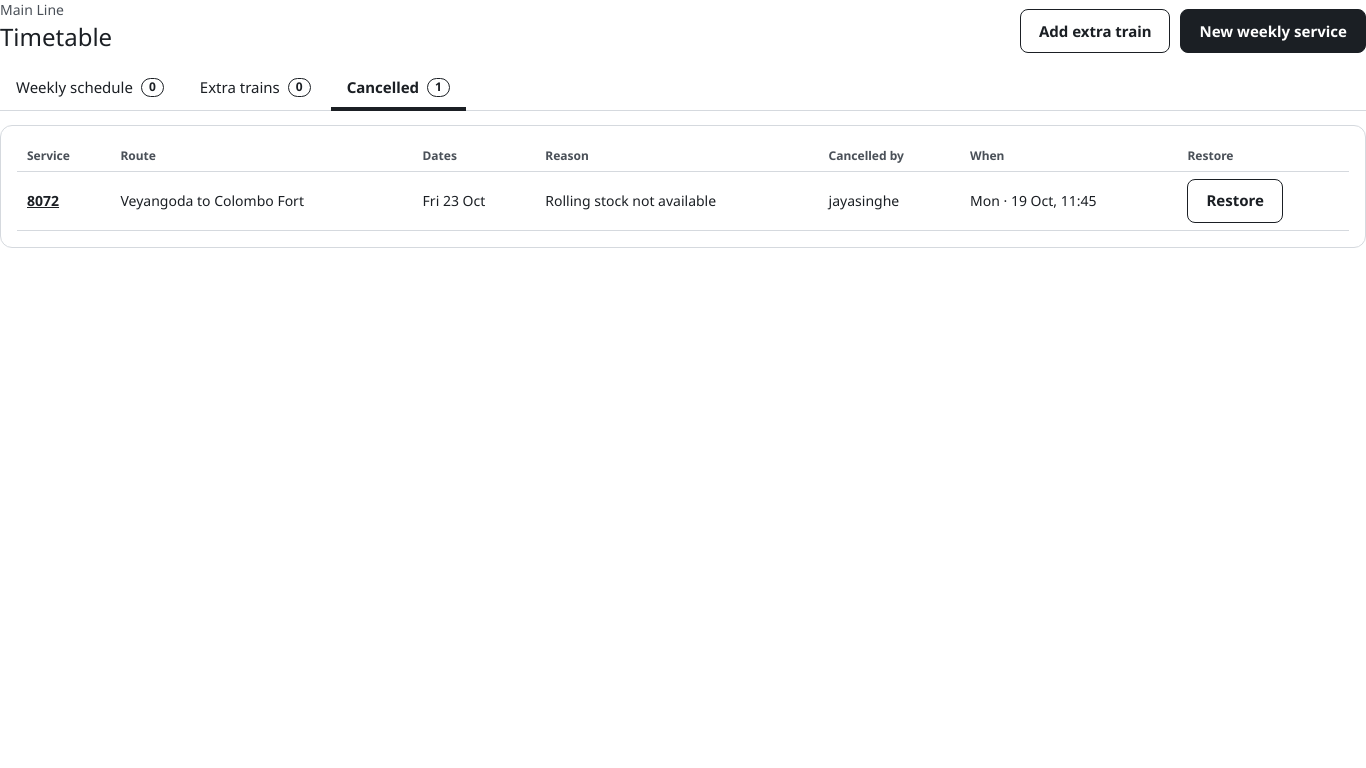
it: Timetable (spec 15, W1) › keeping it cancelled sends nothing, and a second restore is explained
The width and height of the screenshot is (1366, 768).
What coordinates should you click on to do the following:
click the button with aria-label "Restore service 8072"
I would click on:
 (1235, 201)
Its box is [1187,179,1283,223].
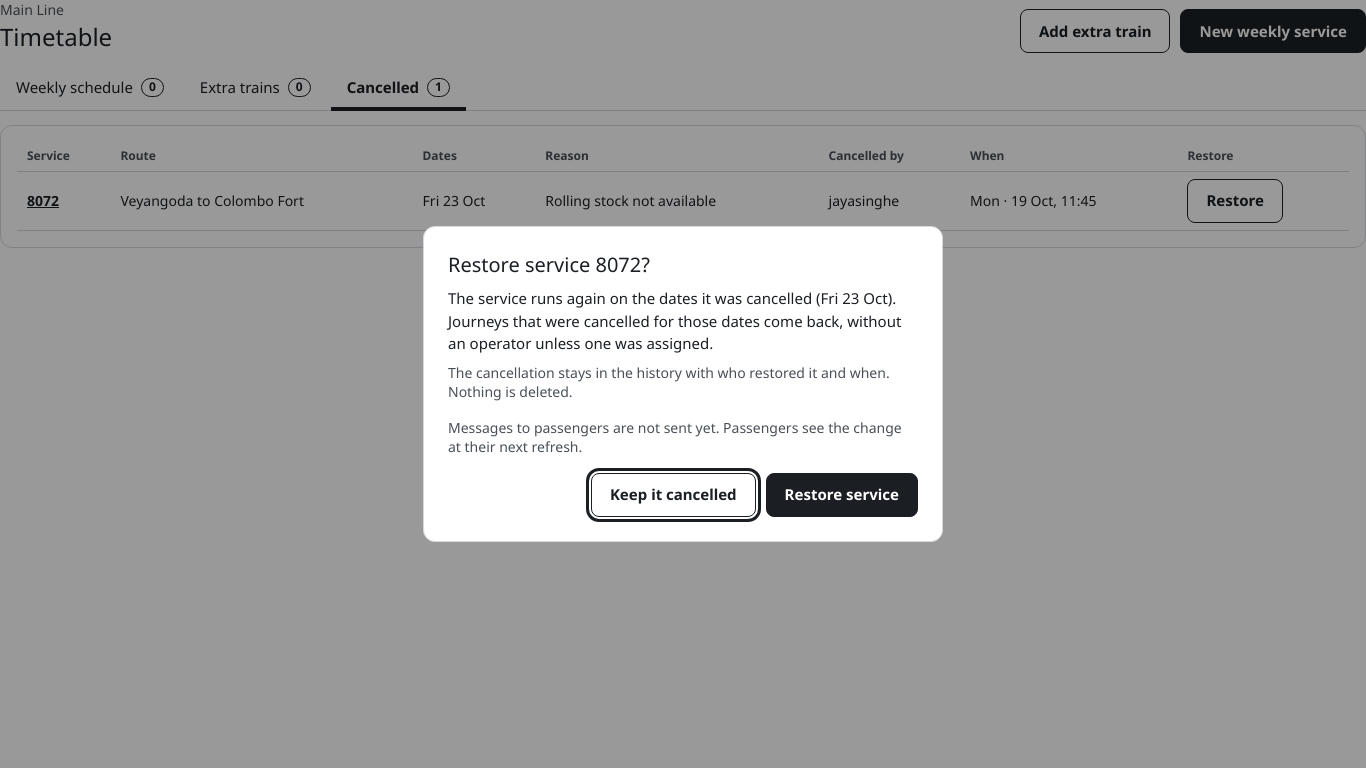
What coordinates should you click on to do the following:
click the button "Keep it cancelled"
I would click on:
 (673, 495)
Its box is [591,473,756,517].
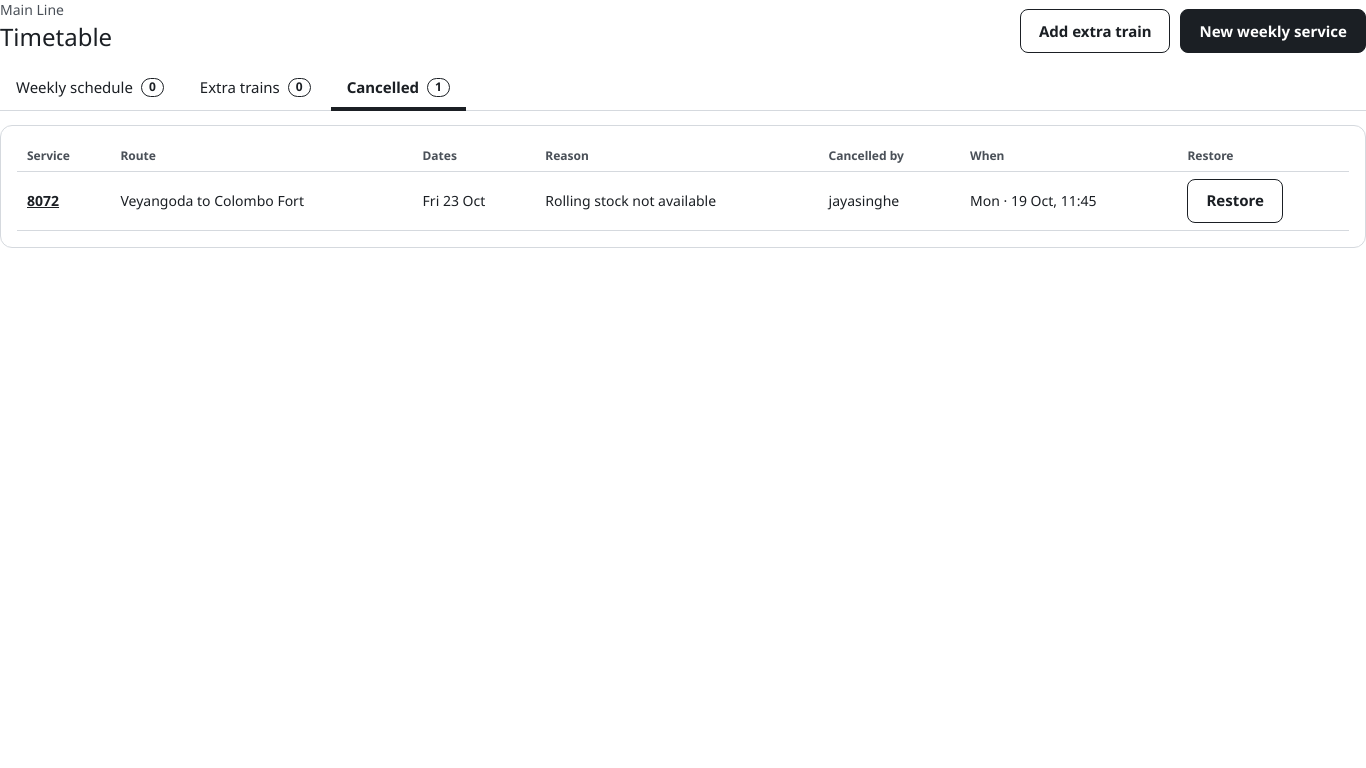
What coordinates should you click on to do the following:
click the button with aria-label "Restore service 8072"
I would click on:
 (1235, 201)
Its box is [1187,179,1283,223].
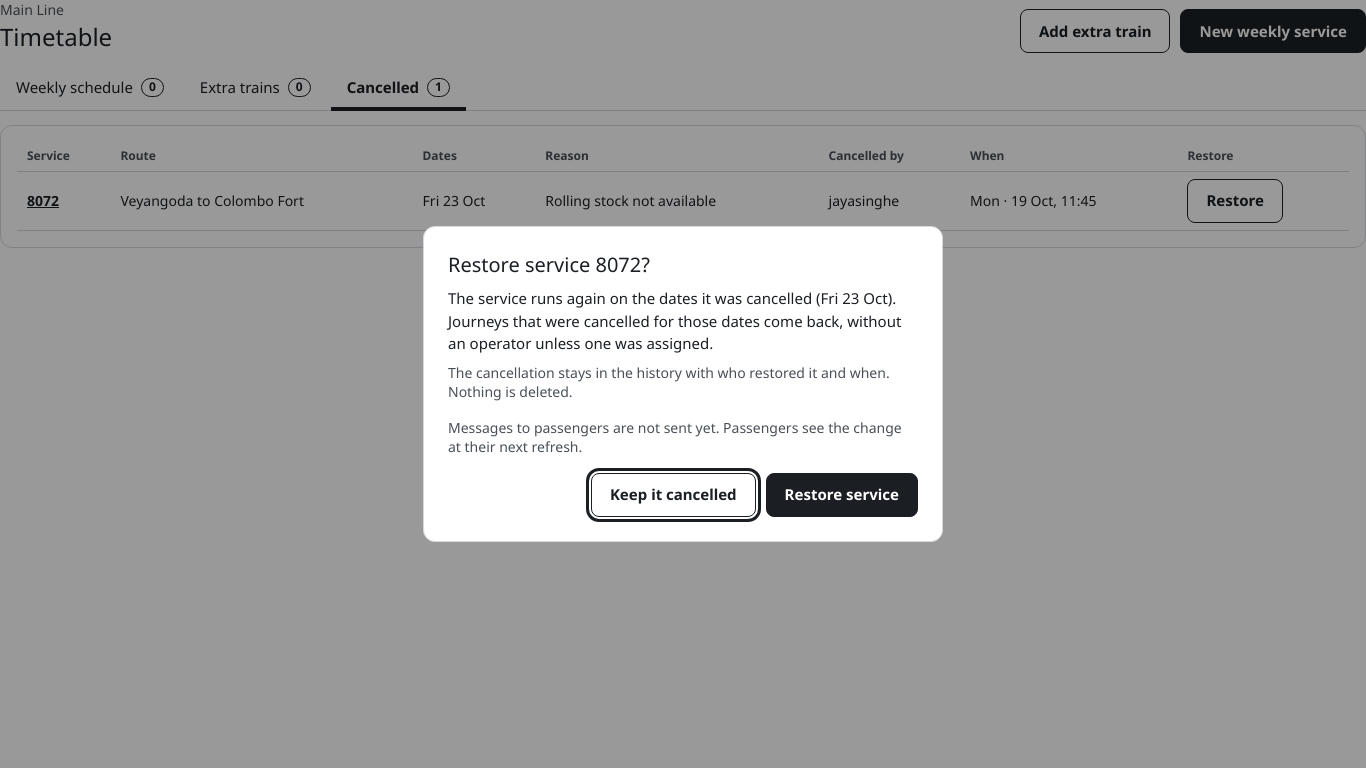
What coordinates should you click on to do the following:
click the button "Restore service"
I would click on:
 (842, 495)
Its box is [766,473,918,517].
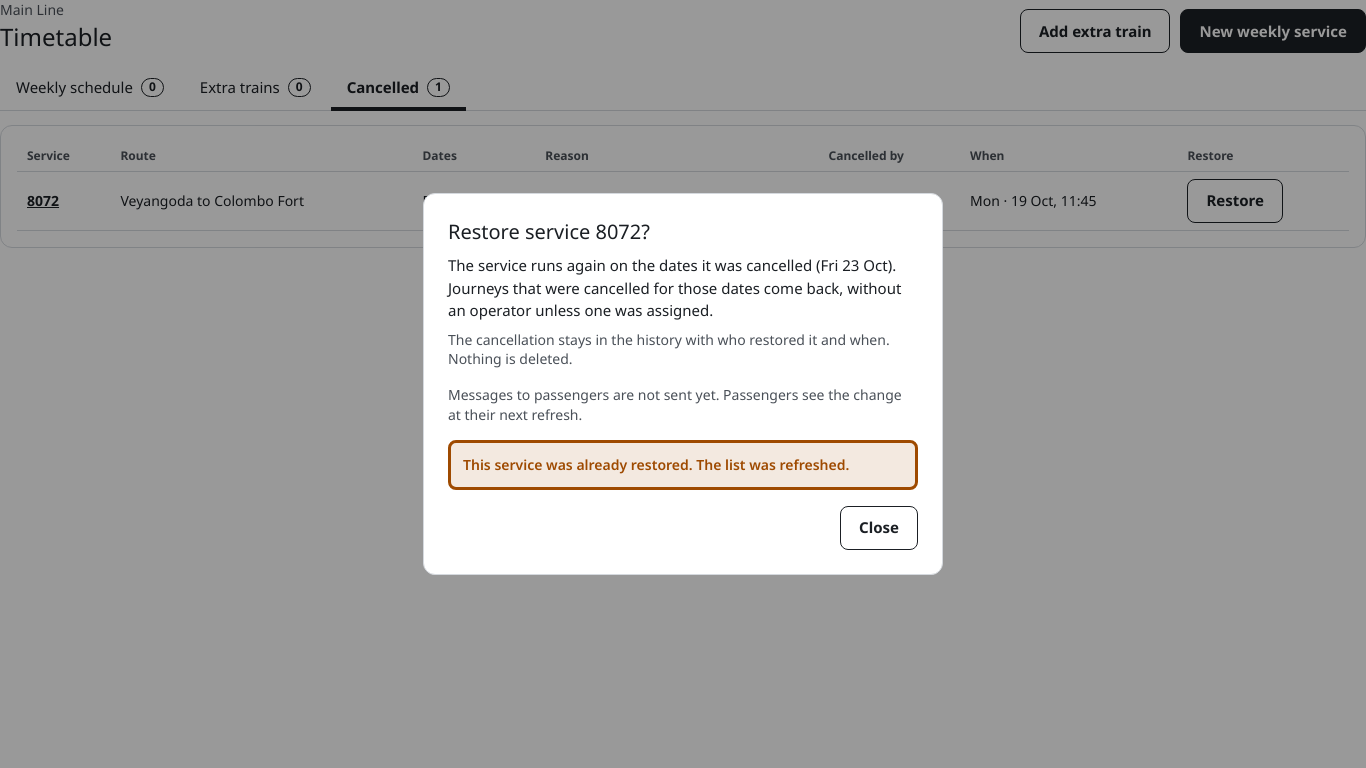
Expected: the message shows "This service was already restored", [463,455,849,474]
